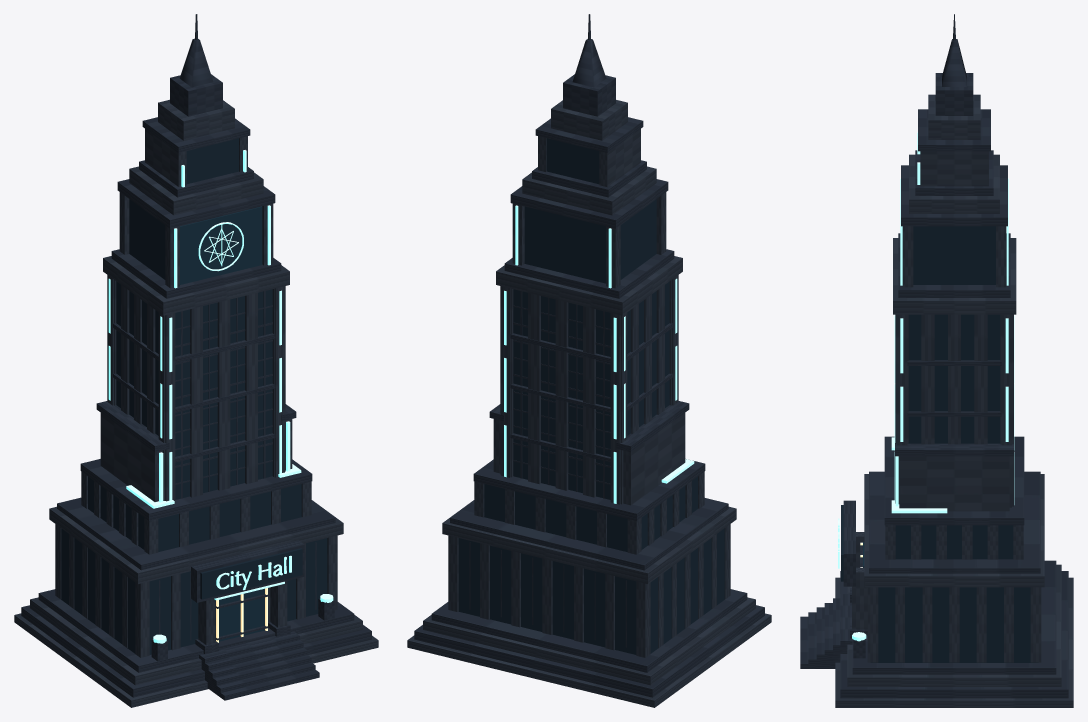
The model's file is city_hall.glb.
The picture shows the model from 3 angles, left to right: view 1: azimuth 30°, elevation 25°; view 2: azimuth 150°, elevation 25°; view 3: azimuth 270°, elevation 25°; orthographic projection.
Parts seen in each view (by area): view 1: City Hall · stone, City Hall · trim, City Hall · dark, City Hall · glass, 3D Neon · City Hall; view 2: City Hall · stone, City Hall · dark, City Hall · trim, 3D Neon · City Hall; view 3: City Hall · stone, City Hall · trim, City Hall · dark, 3D Neon · City Hall.
Part boxes in pixels (bbox=[...]): City Hall · stone: bbox=[14, 99, 378, 707]; City Hall · trim: bbox=[21, 14, 371, 700]; City Hall · dark: bbox=[61, 138, 327, 654]; City Hall · glass: bbox=[180, 206, 264, 641]; 3D Neon · City Hall: bbox=[108, 150, 333, 643]; City Hall · stone: bbox=[407, 100, 771, 707]; City Hall · dark: bbox=[458, 138, 724, 654]; City Hall · trim: bbox=[414, 14, 764, 697]; 3D Neon · City Hall: bbox=[504, 205, 694, 503]; City Hall · stone: bbox=[835, 94, 1073, 707]; City Hall · trim: bbox=[800, 14, 1068, 698]; City Hall · dark: bbox=[841, 226, 1038, 662]; 3D Neon · City Hall: bbox=[838, 132, 1014, 641].
Size of the model in its own units: 8.3 by 19.9 by 7.81.
6 materials, 2 textured.
